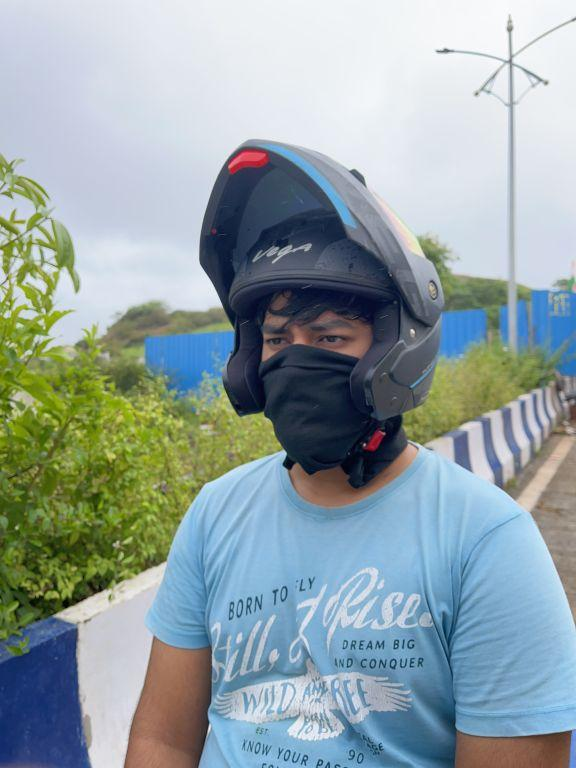helmet: (194, 125, 449, 473)
